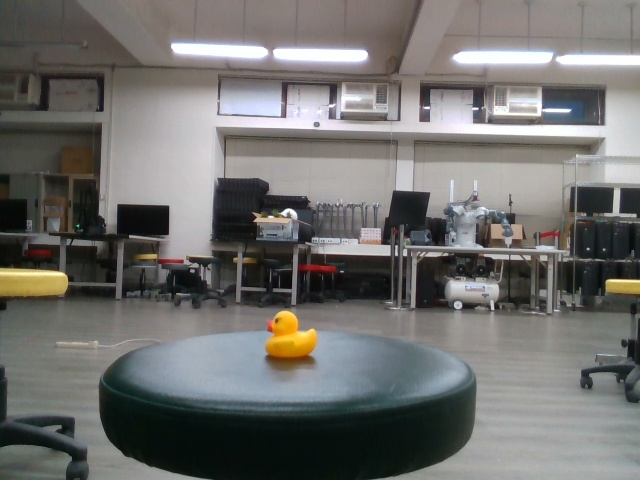duck: (262, 309, 319, 360)
